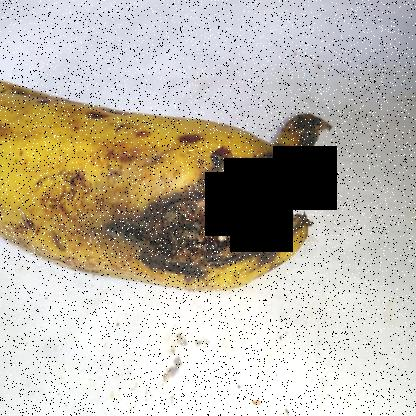rotten: (112, 115, 326, 340)
